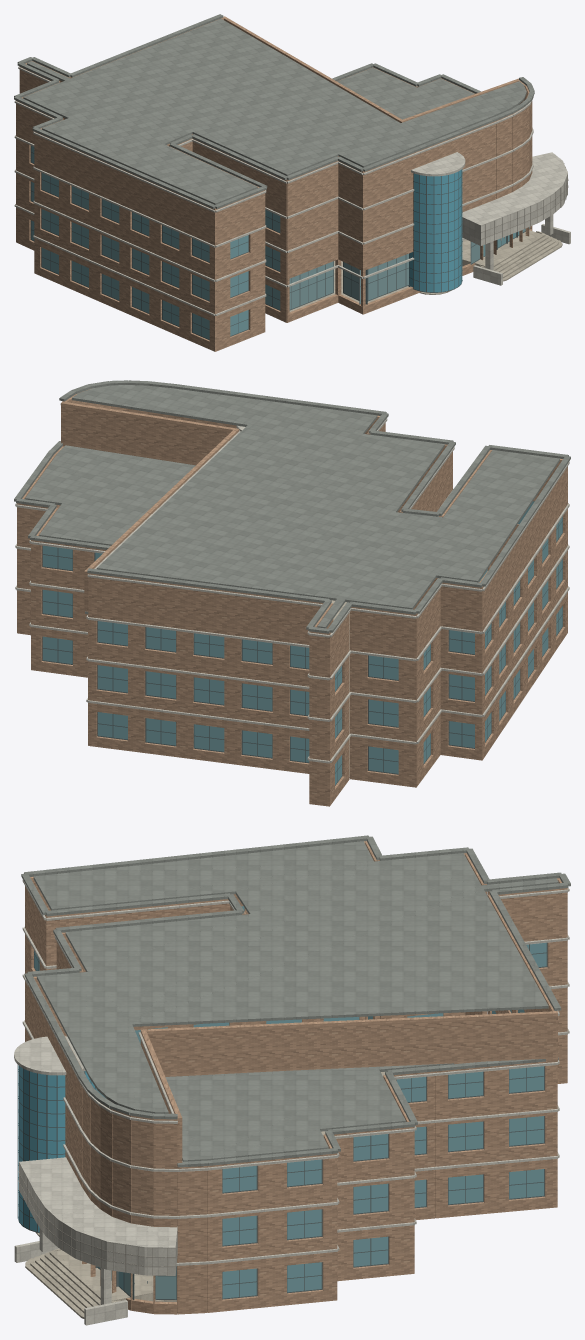
The picture shows the model from 3 angles, top to bottom: view 1: azimuth 30°, elevation 25°; view 2: azimuth 150°, elevation 25°; view 3: azimuth 270°, elevation 25°; orthographic projection. The views are drawn at different scales.
Parts seen in each view (by area): view 1: concert__brick, concert__roof, concert__trim, concert__glass, concert__archglass, concert__frame, concert__sideglass, concert__stair-west, concert__threshold-west, concert__stone, concert__soffit; view 2: concert__brick, concert__roof, concert__glass, concert__trim, concert__frame; view 3: concert__roof, concert__brick, concert__trim, concert__glass, concert__frame, concert__archglass, concert__stair-west, concert__threshold-west, concert__soffit, concert__sideglass.
Boxes of the visible parts, <box> form: concert__brick: <box>16,16,532,351</box>; concert__roof: <box>14,14,534,208</box>; concert__trim: <box>14,66,570,316</box>; concert__glass: <box>31,146,519,339</box>; concert__archglass: <box>409,169,462,292</box>; concert__frame: <box>30,145,530,340</box>; concert__sideglass: <box>289,227,529,309</box>; concert__stair-west: <box>479,231,562,281</box>; concert__threshold-west: <box>462,230,541,266</box>; concert__stone: <box>289,239,470,311</box>; concert__soffit: <box>481,163,568,243</box>; concert__brick: <box>17,389,567,806</box>; concert__roof: <box>14,380,570,633</box>; concert__glass: <box>43,501,562,784</box>; concert__trim: <box>15,403,569,763</box>; concert__frame: <box>42,516,562,785</box>; concert__roof: <box>21,835,570,1167</box>; concert__brick: <box>25,841,567,1314</box>; concert__trim: <box>14,880,569,1325</box>; concert__glass: <box>34,906,546,1298</box>; concert__frame: <box>17,942,547,1299</box>; concert__archglass: <box>18,1065,95,1232</box>; concert__stair-west: <box>25,1248,121,1318</box>; concert__threshold-west: <box>55,1250,157,1301</box>; concert__soffit: <box>18,1165,175,1275</box>; concert__sideglass: <box>124,1270,176,1299</box>.
Size of the model in its own units: 53.55 by 16.7 by 41.94.
Materials: 9 (5 with a texture image).
